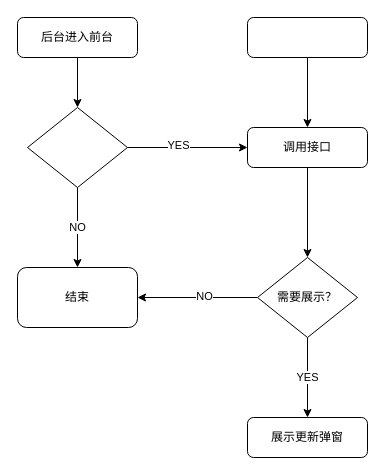
Image size: 385x475. Some labels were removed from this diagram. The shapes that lost their labels are listed below. From the top down, each one's centre as x and y in pixels, then its label:
At pixel 307 37: "冷启动".
At pixel 77 147: "剪贴板 是否有活动？".
